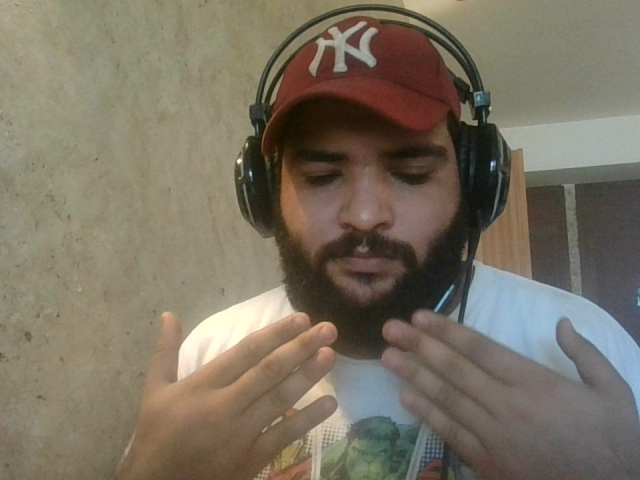thanks: (132, 312, 640, 480)
